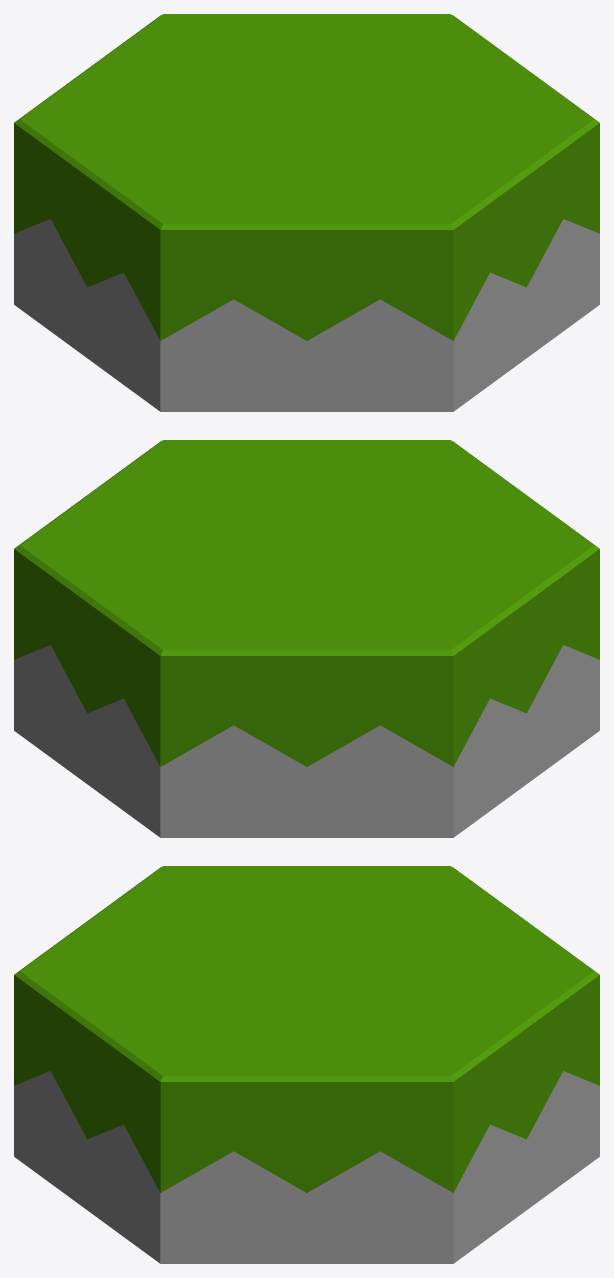
The model's file is RPG_Tiles_Hex_Stone_Covered_Raised_02.FBX.
3 renders of one model, top to bottom at view 1: azimuth 30°, elevation 25°; view 2: azimuth 150°, elevation 25°; view 3: azimuth 270°, elevation 25°, orthographic.
Parts seen in each view (by area): view 1: RPG_Tiles_Hex_Stone_Covered_Raised_02; view 2: RPG_Tiles_Hex_Stone_Covered_Raised_02; view 3: RPG_Tiles_Hex_Stone_Covered_Raised_02.
Part boxes in pixels (bbox=[...]): RPG_Tiles_Hex_Stone_Covered_Raised_02: bbox=[14, 14, 599, 411]; RPG_Tiles_Hex_Stone_Covered_Raised_02: bbox=[14, 440, 599, 837]; RPG_Tiles_Hex_Stone_Covered_Raised_02: bbox=[14, 866, 599, 1263].
Size of the model in its own units: 3000 by 1210 by 3464.
